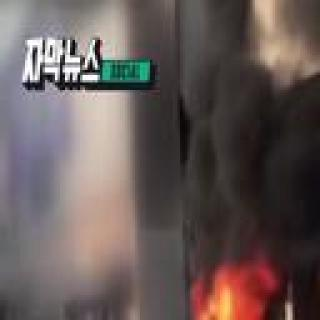fire: (200, 275, 271, 320)
